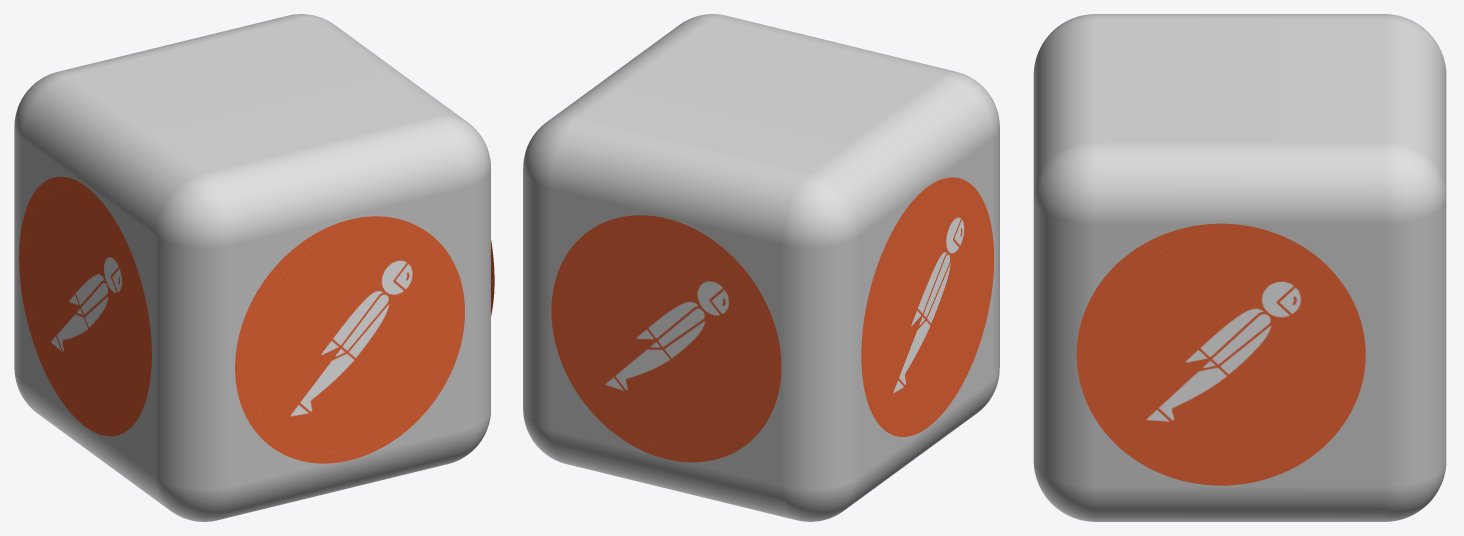
Rendered from postman-draco.glb.
3 views of the same model, side by side, from view 1: azimuth 30°, elevation 25°; view 2: azimuth 150°, elevation 25°; view 3: azimuth 270°, elevation 25° (orthographic). The views are drawn at different scales.
Parts seen in each view (by area): view 1: Cube.011, Plane.048, Plane.045; view 2: Cube.011, Plane.047, Plane.045; view 3: Cube.011, Plane.046.
Part boxes in pixels (x1=…): Cube.011: x1=14, y1=14, x2=490, y2=521; Plane.048: x1=235, y1=216, x2=464, y2=463; Plane.045: x1=19, y1=176, x2=151, y2=436; Cube.011: x1=523, y1=14, x2=999, y2=521; Plane.047: x1=551, y1=215, x2=781, y2=462; Plane.045: x1=861, y1=177, x2=993, y2=436; Cube.011: x1=1033, y1=14, x2=1446, y2=521; Plane.046: x1=1076, y1=223, x2=1365, y2=485.
Size of the model in its own units: 2.03 by 2 by 2.04.
Materials: 5 (4 with a texture image).
